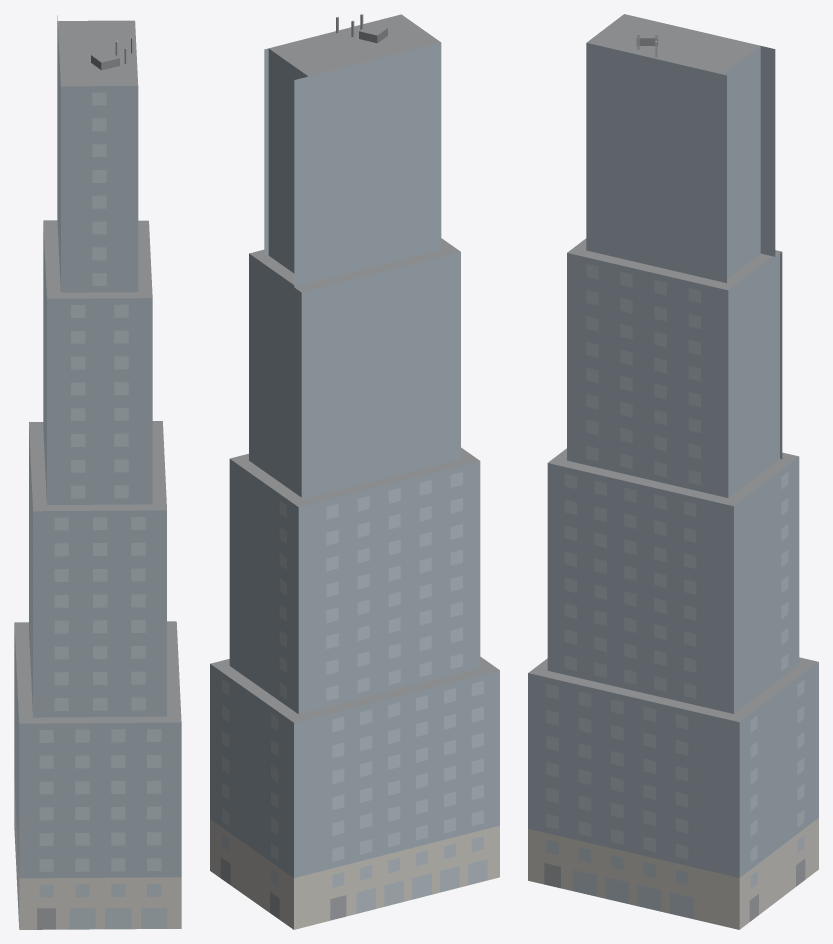
File: doitt-982383__lod_1.glb
3 renders of one model, left to right at view 1: azimuth 30°, elevation 25°; view 2: azimuth 150°, elevation 25°; view 3: azimuth 270°, elevation 25°, orthographic.
Size of the model in its own units: 32.73 by 118 by 36.68.
